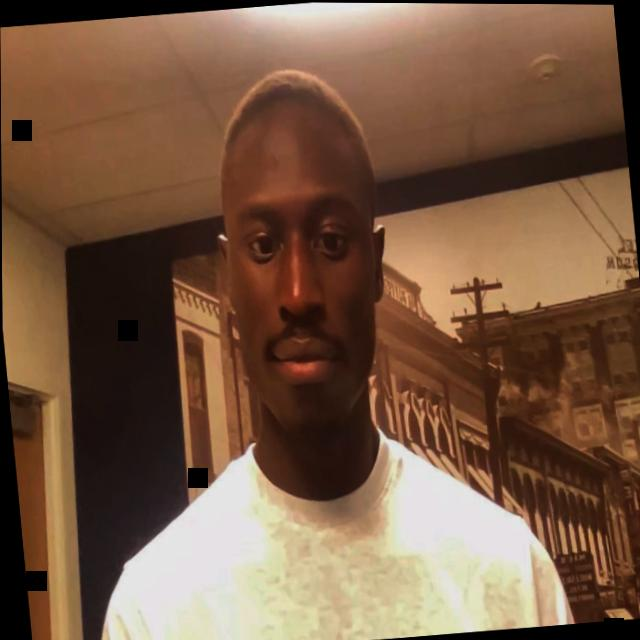NO-Mask: (202, 63, 404, 446)
